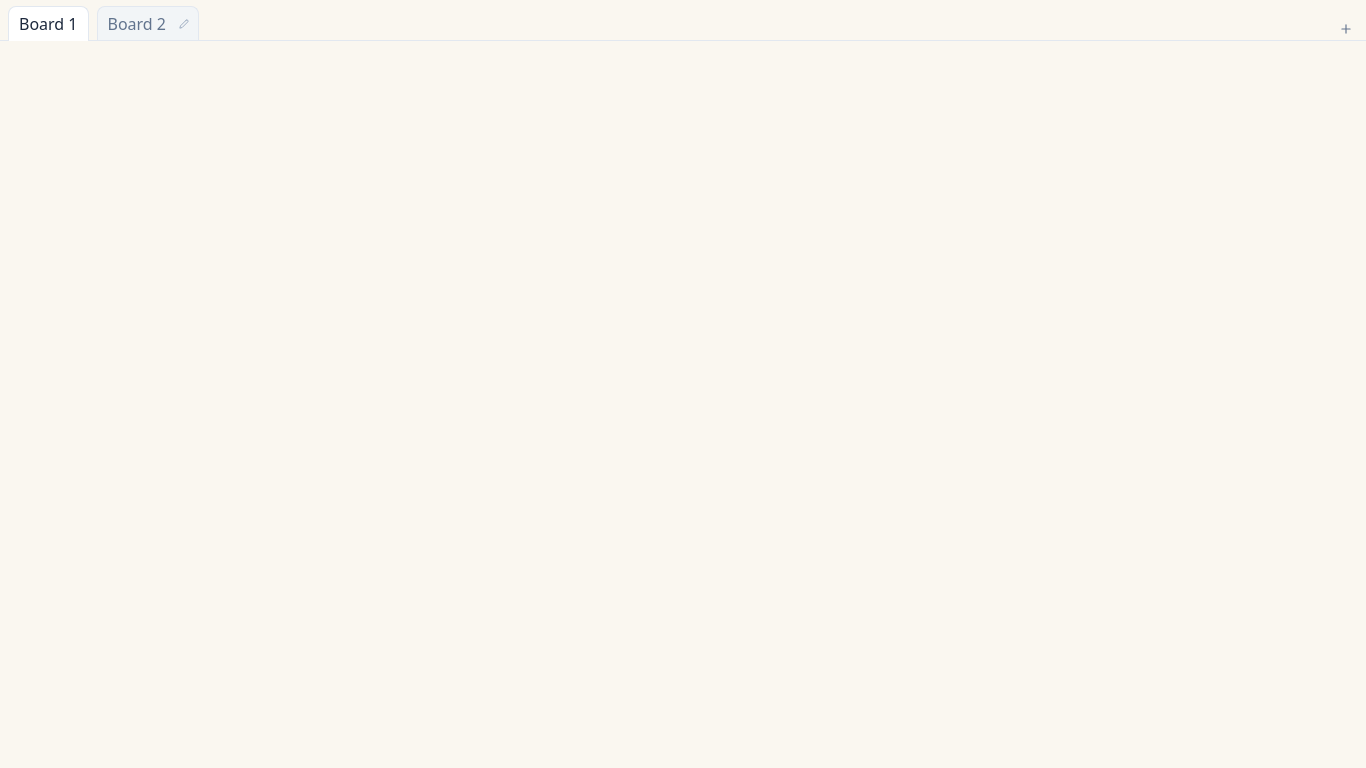
Test: BoardTabs › surfaces a refused delete as an outcome message and keeps the board
Click the button with test id "board-tab-board-1": click(137, 24) [98, 7, 176, 41]
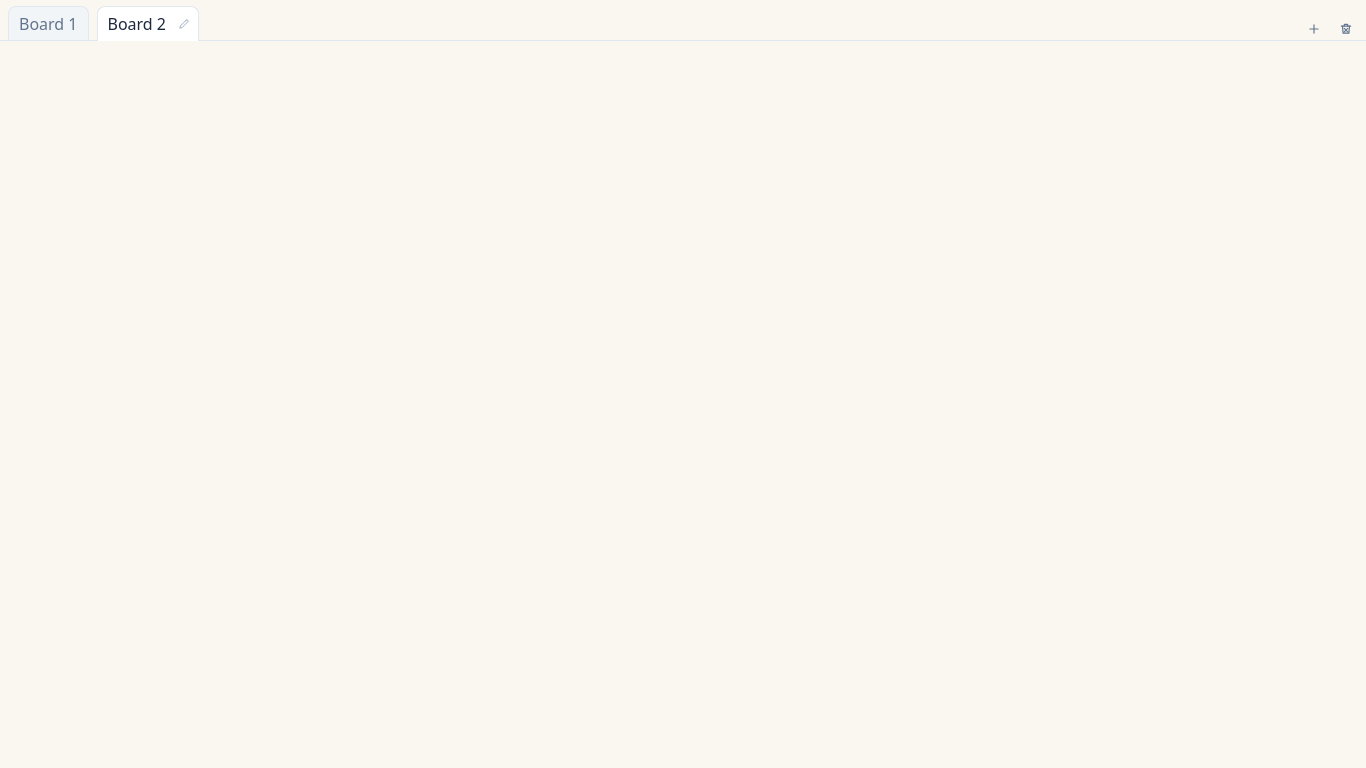
Click the button with test id "board-tabs-delete": click(1346, 29) [1334, 17, 1358, 41]
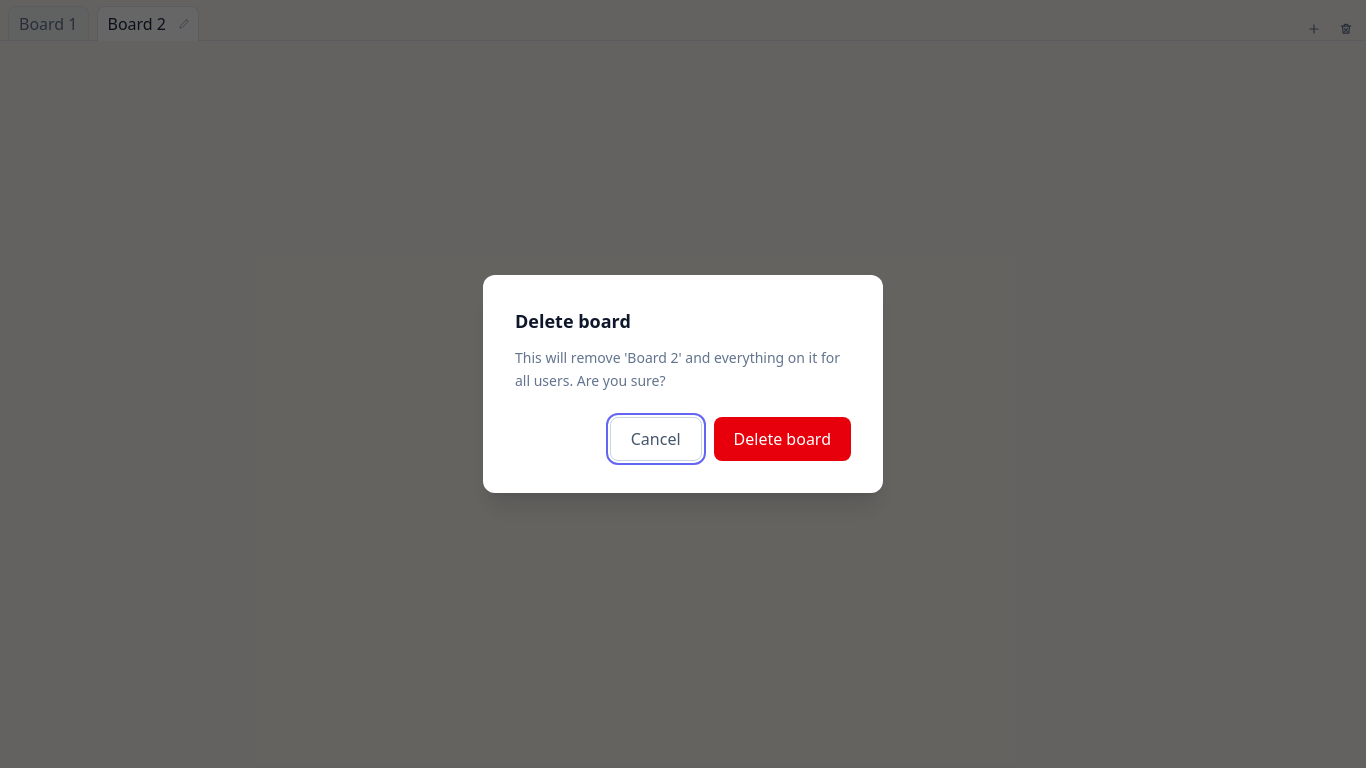
Click the button with test id "board-delete-confirm-btn": click(782, 439) [714, 416, 851, 461]
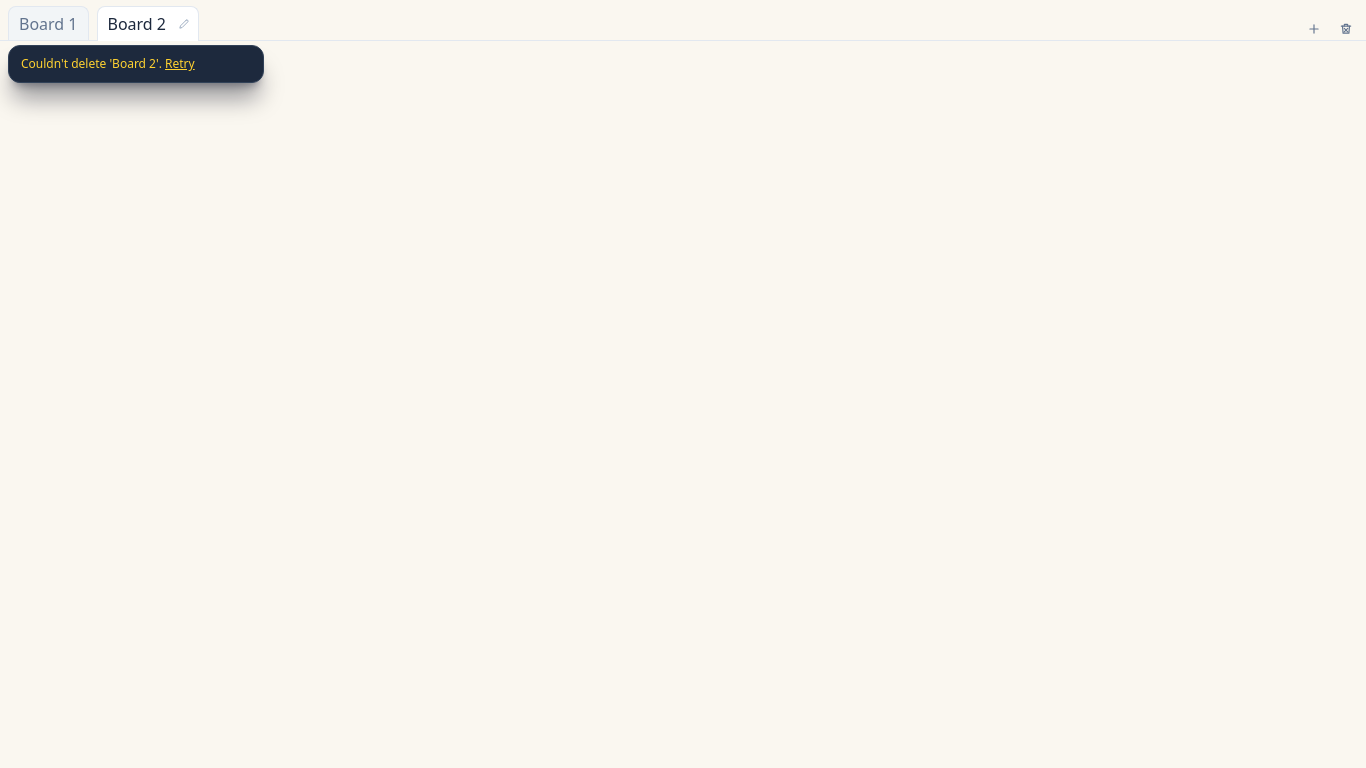
Check: the message "Couldn't delete 'Board 2'. Retry" is shown, box [21, 54, 195, 74]
